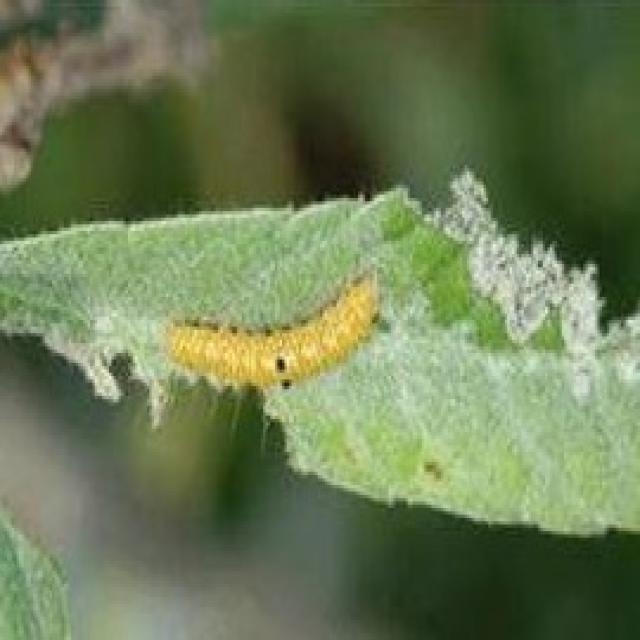peach borer: (159, 283, 389, 399)
